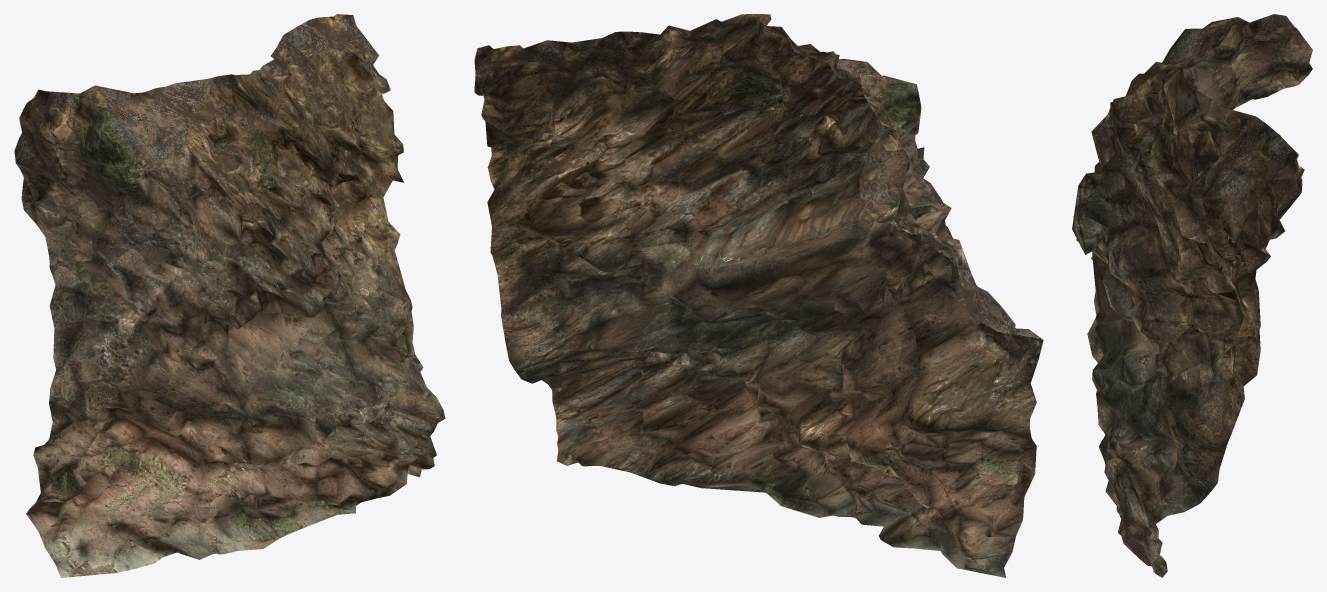
File: mountainside-lod1.glb
3 views of the same model, side by side, from view 1: azimuth 30°, elevation 25°; view 2: azimuth 150°, elevation 25°; view 3: azimuth 270°, elevation 25° (orthographic). The views are drawn at different scales.
Parts seen in each view (by area): view 1: mountainside; view 2: mountainside; view 3: mountainside.
Part boxes in pixels (box(x1,y1,x2,y2)): mountainside: box(14, 14, 445, 577); mountainside: box(474, 14, 1043, 577); mountainside: box(1072, 14, 1312, 577).
Size of the model in its own units: 10.2 by 10.52 by 5.24.
1 material, 1 textured.
